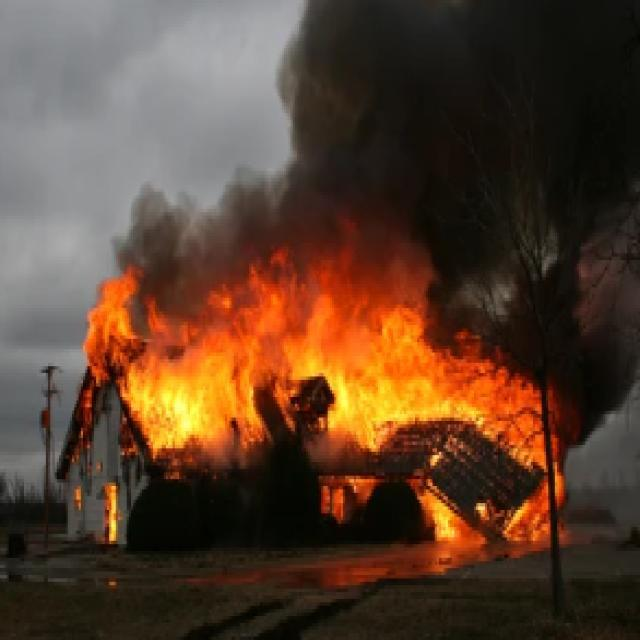Fire: (99, 248, 564, 548)
Smoke: (245, 0, 470, 305)
